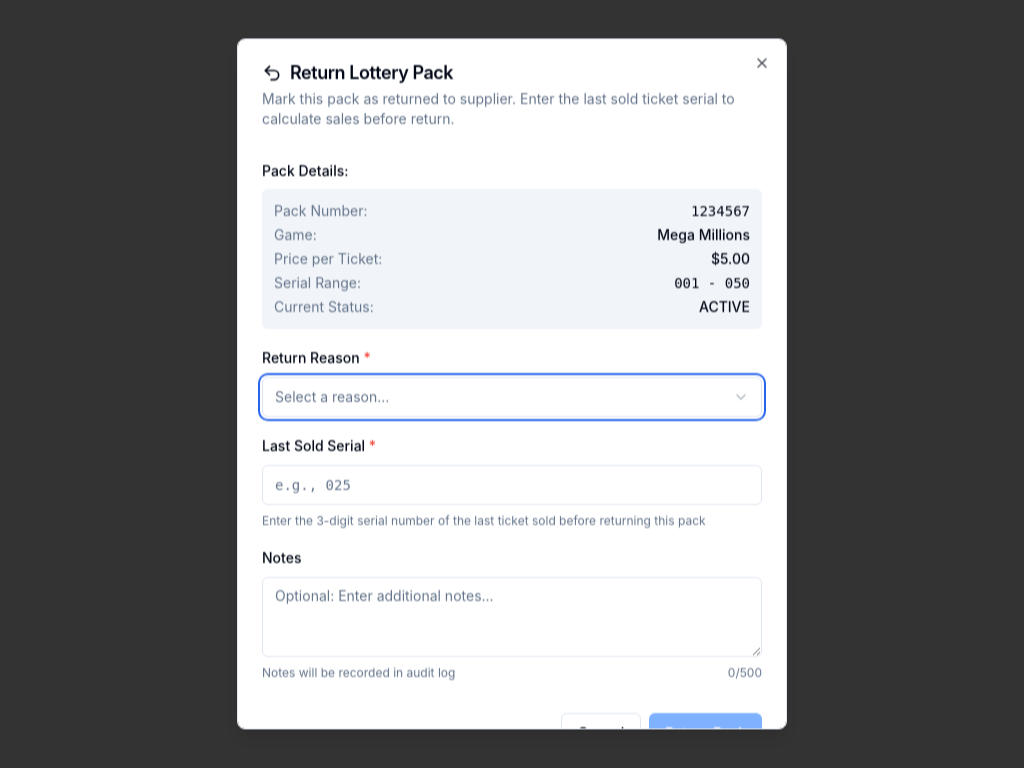
Scenario: ReturnPackDialog Component › Rendering › REN-003: [P0] should render return reason dropdown with all options
The width and height of the screenshot is (1024, 768).
// User opens the dropdown
Click the dropdown with test id "return-reason-select".
click(332, 397)  # box x1=262 y1=377 x2=762 y2=417
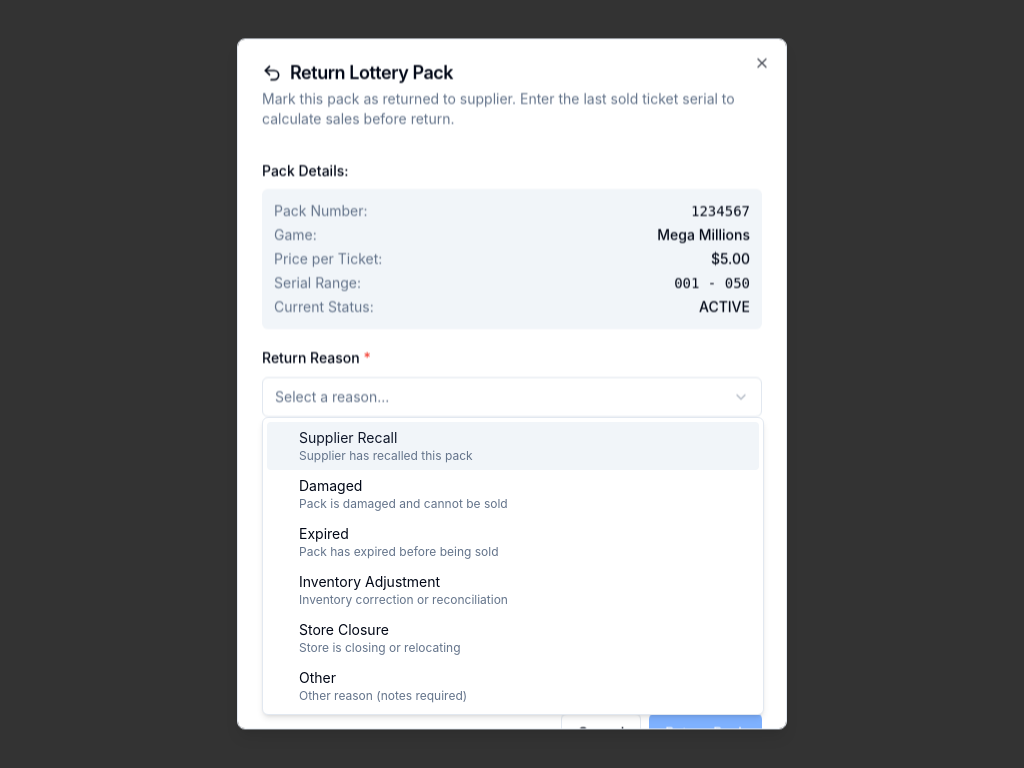
Result: the text "Supplier Recall" is shown at x1=299 y1=429 x2=397 y2=446
Result: the text "Damaged" is shown at x1=299 y1=477 x2=362 y2=494
Result: the text "Expired" is shown at x1=299 y1=525 x2=349 y2=542
